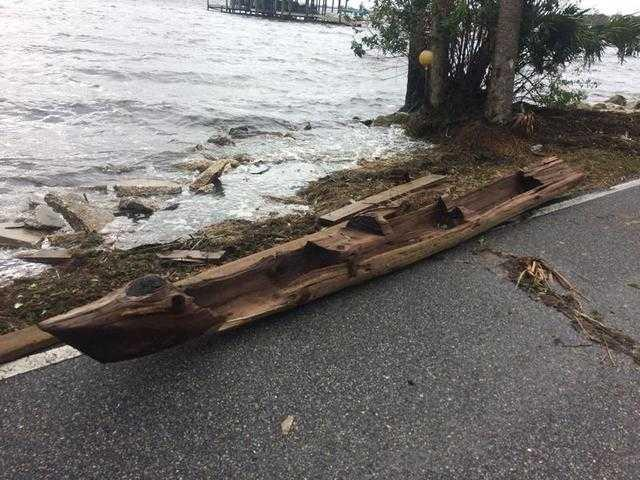kayak: (35, 152, 594, 367), (14, 235, 87, 264)
